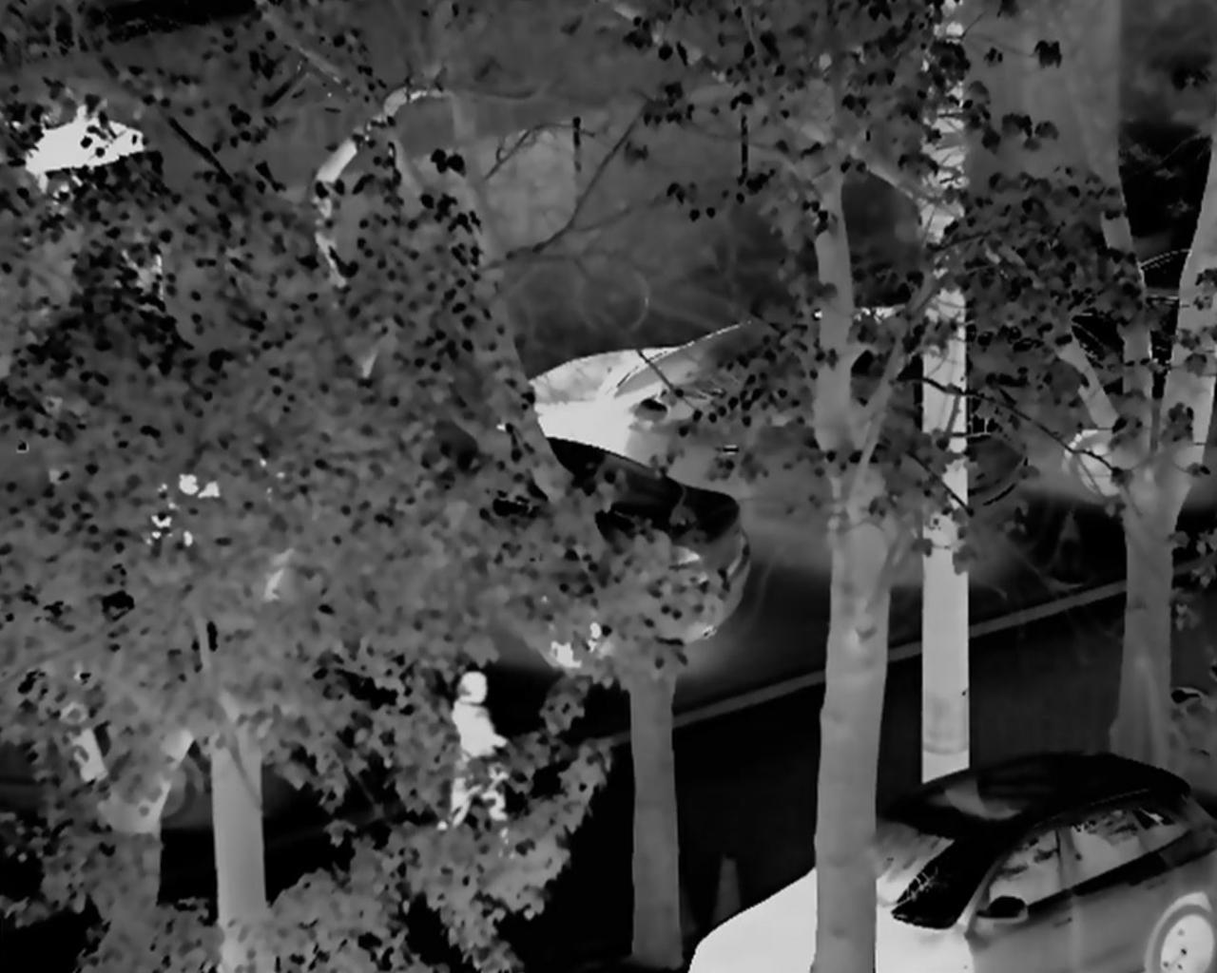person: (426, 668, 528, 880)
